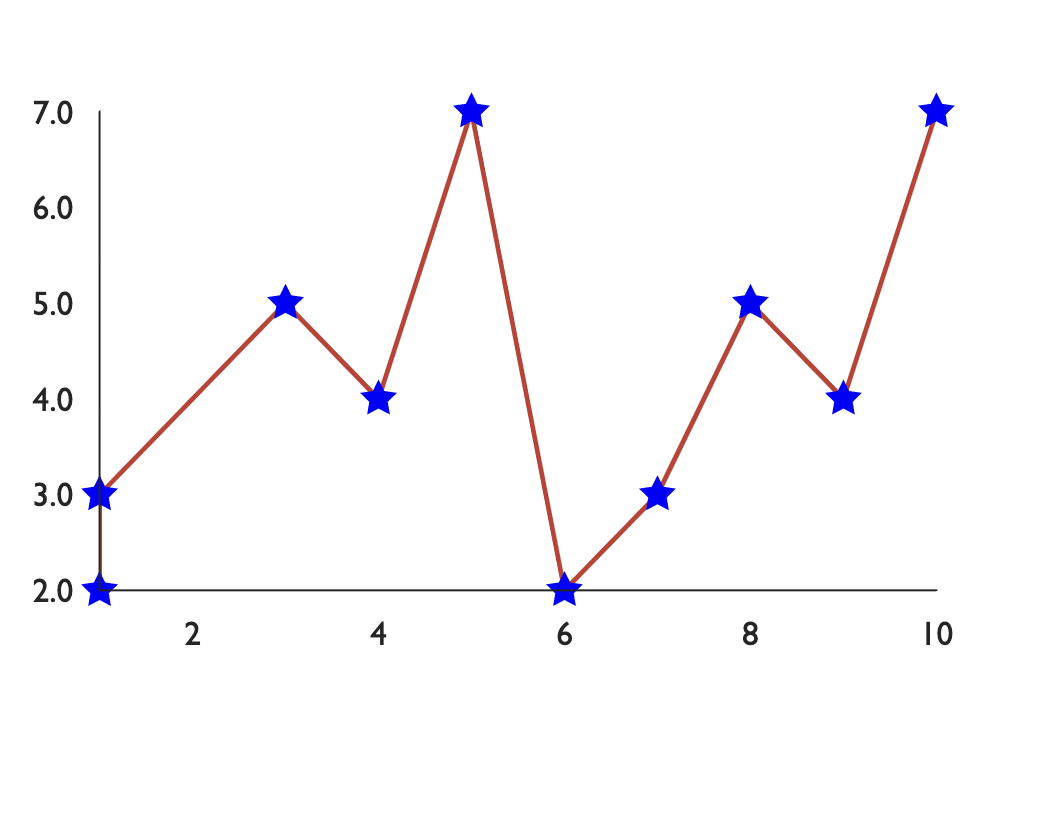S1_AxisNotZero: (3, 54, 1032, 689)
